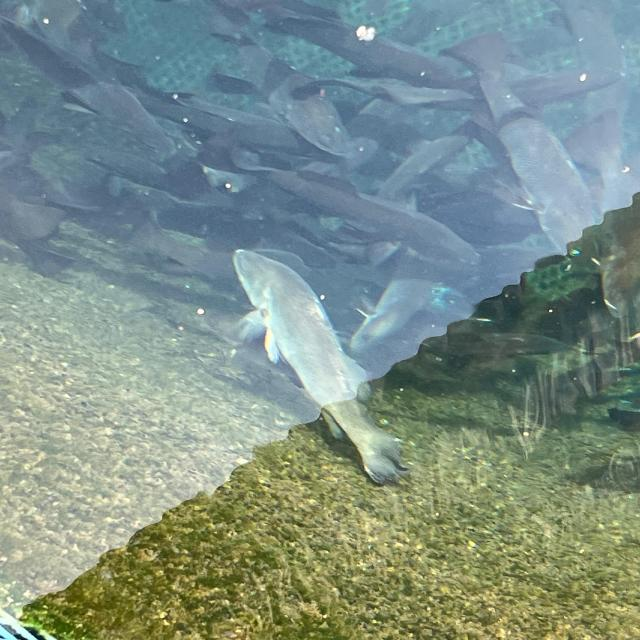ikan: (228, 248, 411, 487), (228, 146, 482, 268)
